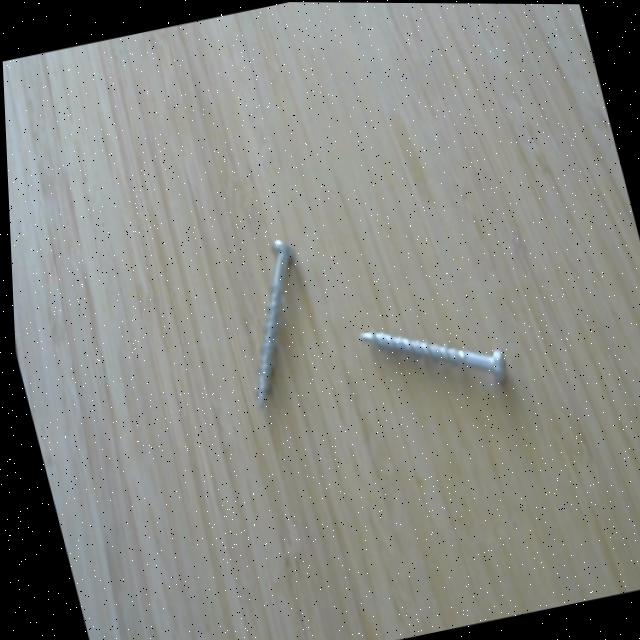Medium screw: (205, 223, 331, 418), (342, 283, 517, 420)
